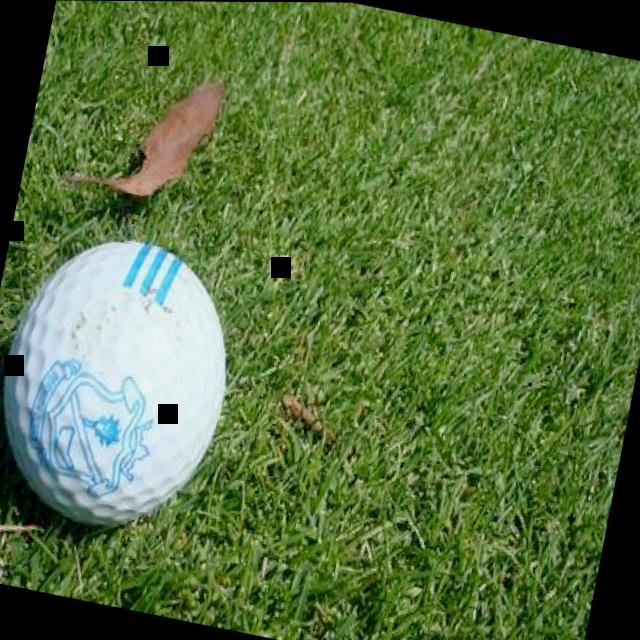golf ball: (0, 205, 262, 557)
